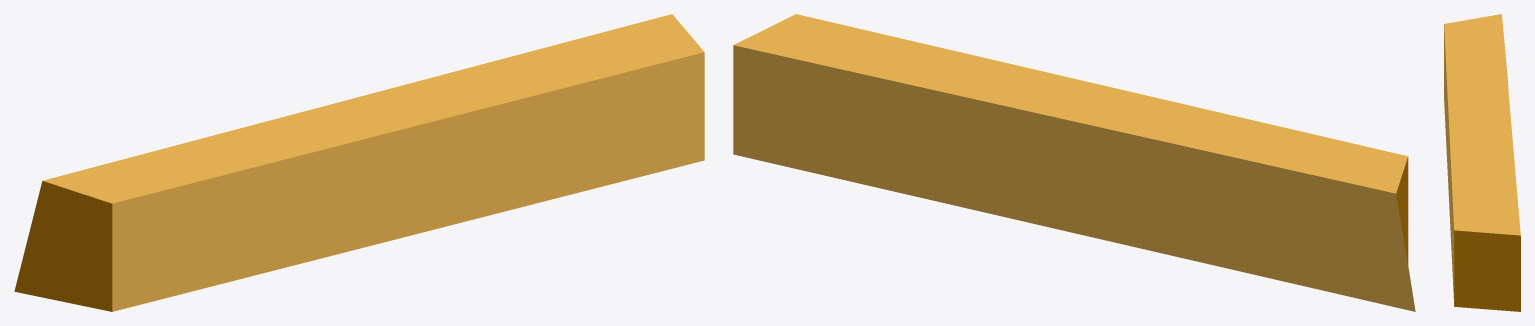
File: potato04.gltf
3 views of the same model, side by side, from view 1: azimuth 30°, elevation 25°; view 2: azimuth 150°, elevation 25°; view 3: azimuth 270°, elevation 25° (orthographic). The views are drawn at different scales.
Parts seen in each view (by area): view 1: Cylinder.001; view 2: Cylinder.001; view 3: Cylinder.001.
Boxes of the visible parts, x1,y1,x2,y2 form: Cylinder.001: [14, 14, 704, 311]; Cylinder.001: [733, 14, 1415, 311]; Cylinder.001: [1444, 14, 1520, 311].
Bounding box in the file's own units: 0.0562 × 0.00872 × 0.00793.
Materials: 1 (1 with a texture image).
